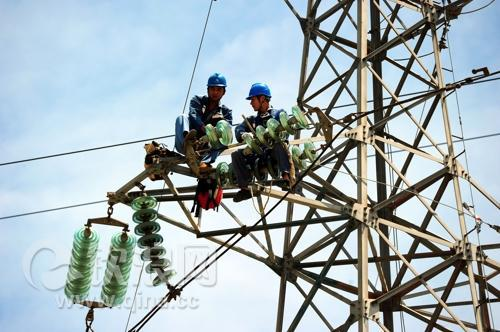helmet: (246, 79, 274, 114), (205, 70, 230, 103)
